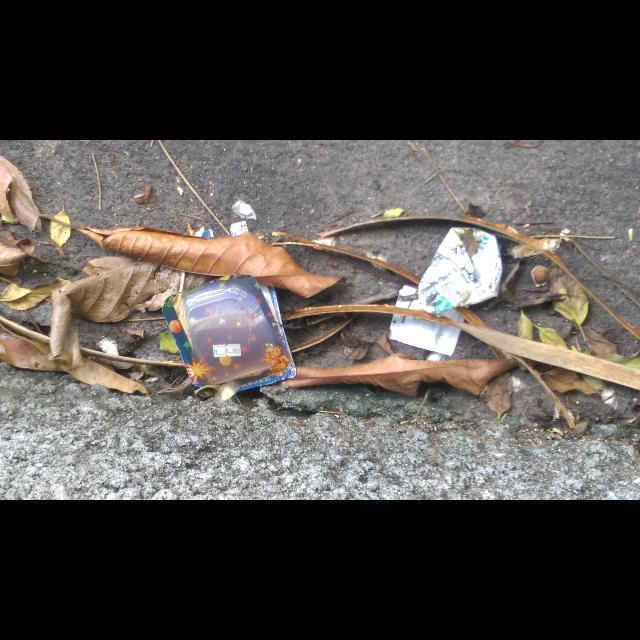Plastic: (418, 228, 502, 316)
